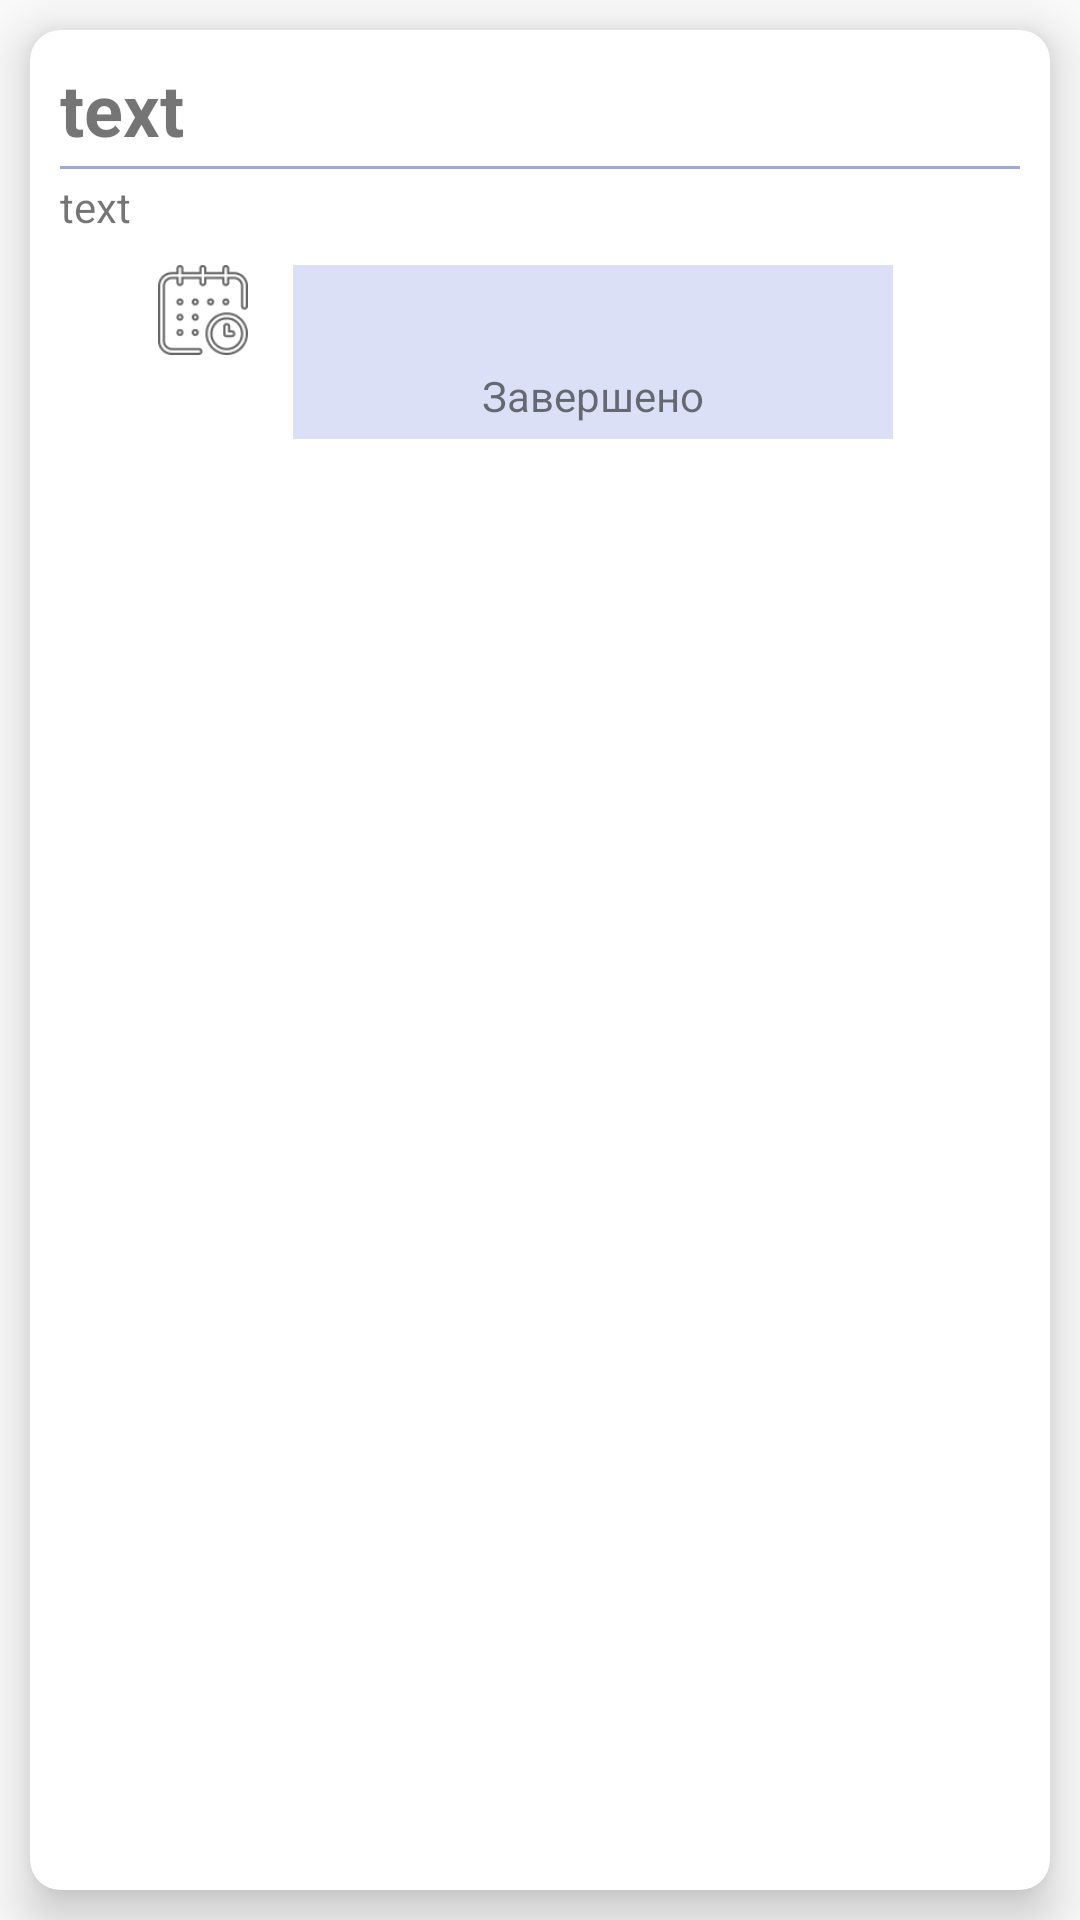

Icon click points for this 1080px×1920px phone screenshot, format (x=x, y=y):
calendar: (x=203, y=310)
